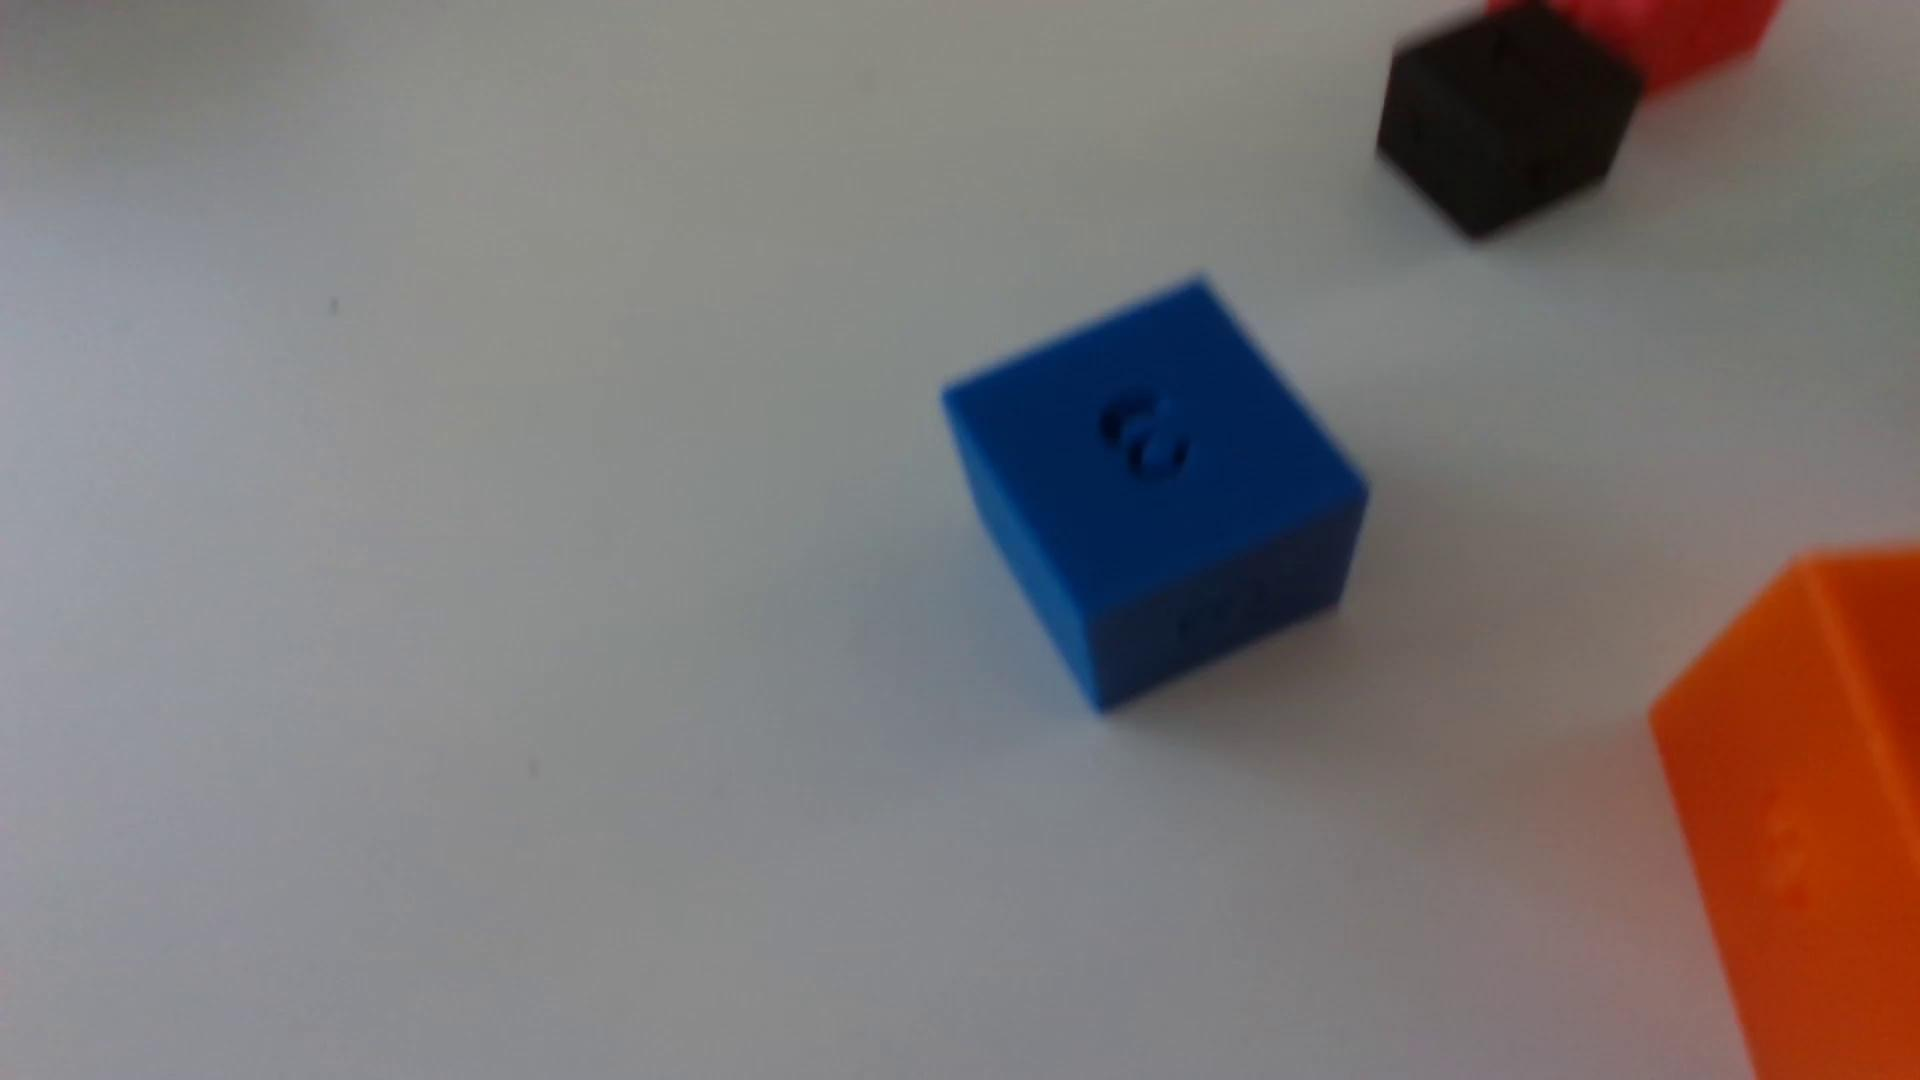black: (1375, 0, 1643, 241)
blue: (942, 280, 1367, 712)
orange: (1650, 547, 1920, 1080)
red: (1545, 0, 1783, 98)
